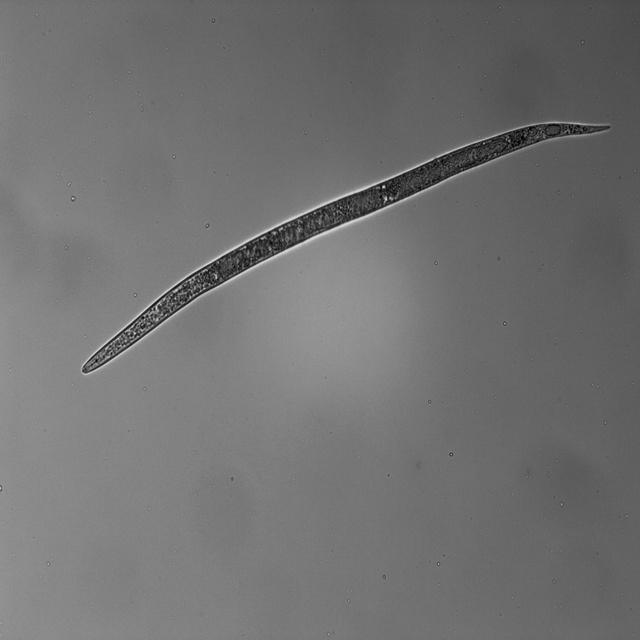Meloidogyne: (74, 118, 616, 380)
